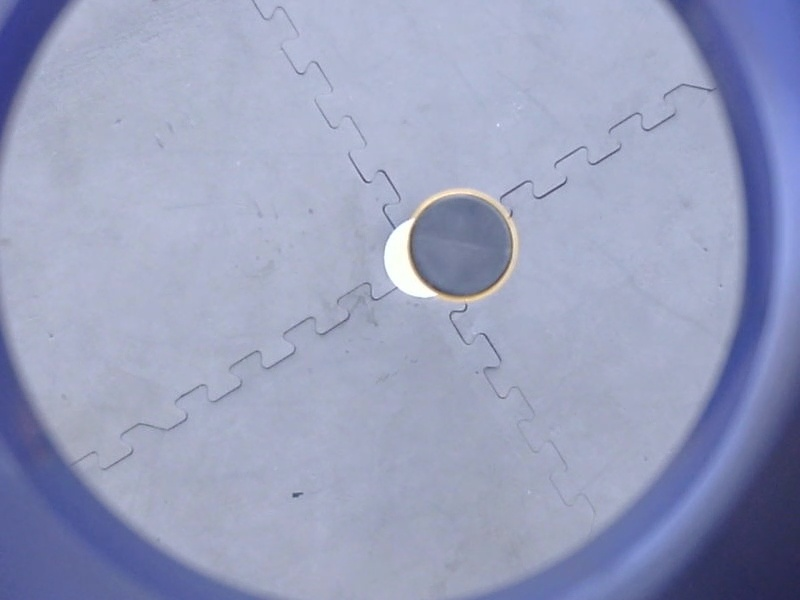tip: (400, 183, 523, 305)
